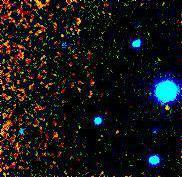star: (155, 91, 182, 121)
